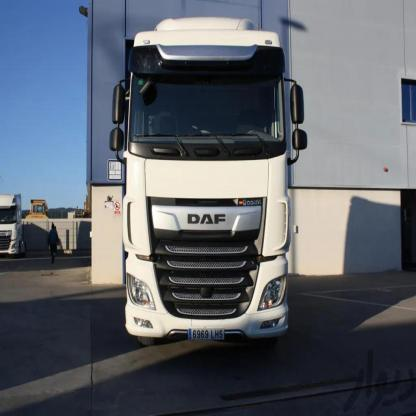Truck: (111, 15, 296, 344), (0, 192, 21, 258)
